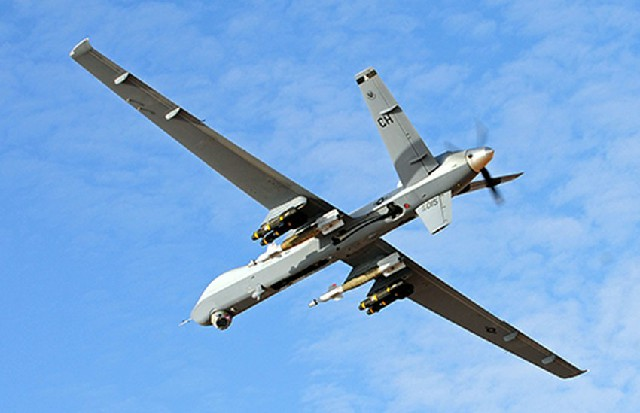maybay_khongnguoilai: (68, 41, 586, 382)
